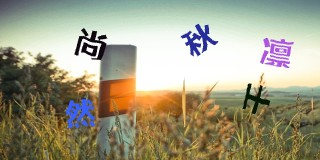凛: (258, 36, 293, 70)
千: (240, 83, 272, 114)
尚: (74, 26, 107, 62)
然: (66, 96, 96, 129)
秋: (181, 22, 219, 57)
